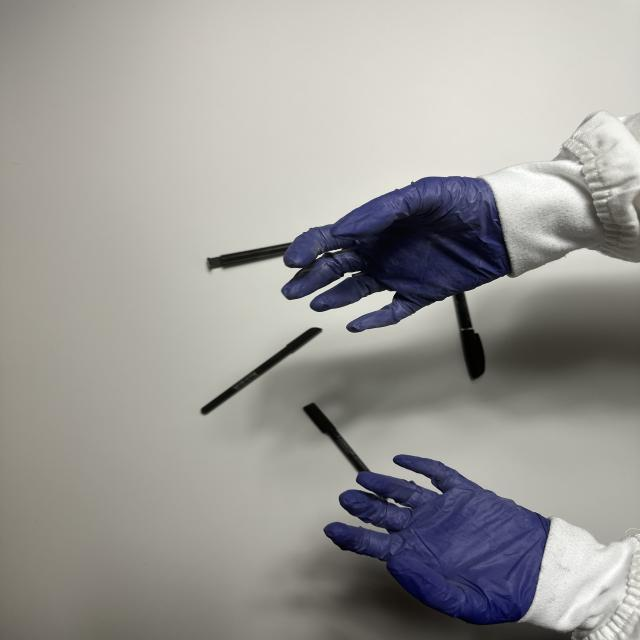gloves_contaminated: (324, 455, 550, 624), (283, 177, 512, 332)
